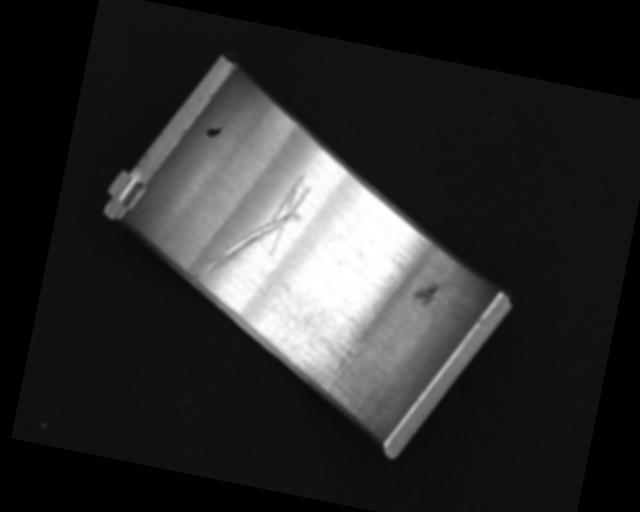blot: (204, 122, 223, 140)
bruise: (412, 280, 441, 308)
nick: (193, 155, 317, 299)
scratch: (263, 302, 381, 413)
